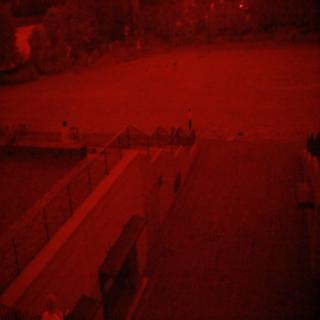person: (177, 103, 204, 143), (55, 111, 74, 150)
